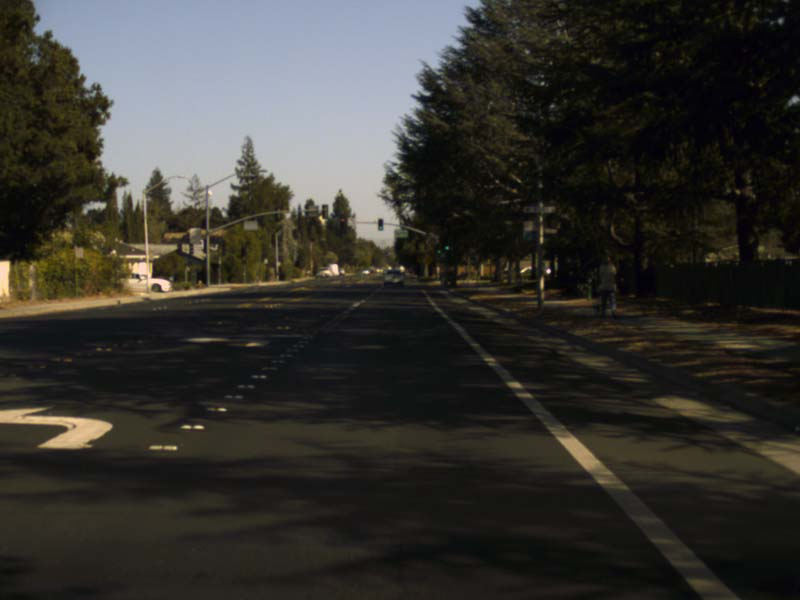Green: (378, 219, 382, 229), (436, 244, 440, 253), (444, 245, 448, 250)
Red: (340, 217, 344, 228)
